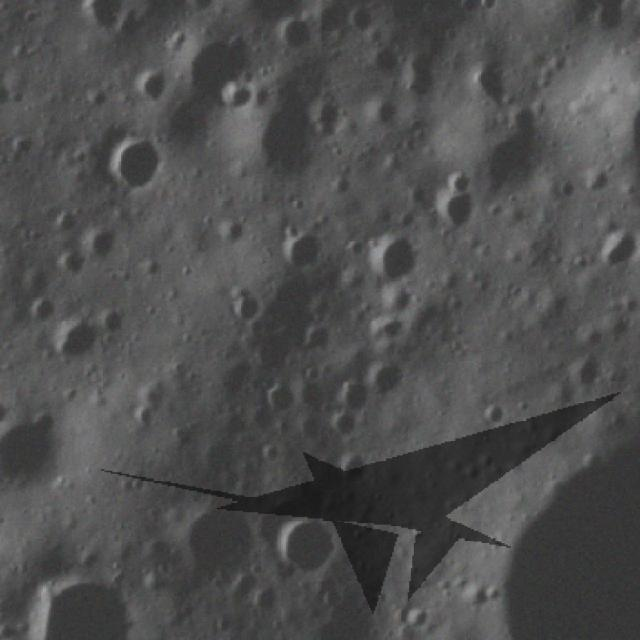crater: (21, 567, 144, 640), (0, 408, 74, 501), (178, 506, 258, 577), (276, 512, 347, 576), (110, 132, 162, 195), (365, 233, 413, 287), (398, 56, 444, 109), (440, 173, 474, 232), (600, 226, 635, 283), (51, 324, 97, 365), (282, 222, 321, 270), (225, 290, 261, 335), (134, 67, 171, 105), (368, 360, 404, 398), (85, 226, 123, 262), (259, 375, 293, 414), (336, 452, 372, 486), (603, 405, 640, 438), (568, 358, 606, 388), (342, 4, 380, 34), (399, 605, 435, 633), (4, 130, 34, 162), (52, 249, 86, 277), (328, 411, 361, 438), (244, 587, 281, 611), (282, 22, 312, 48), (24, 300, 59, 322), (103, 305, 125, 338), (342, 378, 366, 408), (558, 178, 577, 205), (580, 450, 605, 470), (488, 399, 504, 430)
